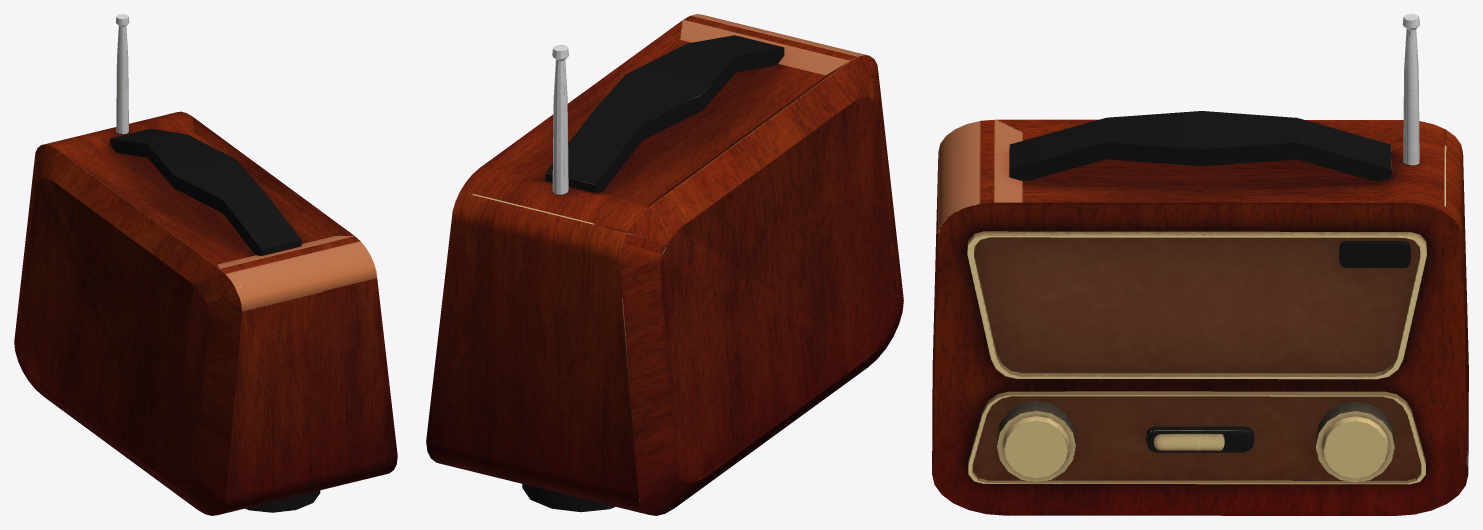
The model's file is radio.fbx.
3 renders of one model, left to right at view 1: azimuth 30°, elevation 25°; view 2: azimuth 150°, elevation 25°; view 3: azimuth 270°, elevation 25°, orthographic. The views are drawn at different scales.
Visible parts, largest first — view 1: radio; view 2: radio; view 3: radio.
Boxes of the visible parts, x1=… form: radio: x1=14, y1=14, x2=397, y2=515; radio: x1=426, y1=14, x2=903, y2=515; radio: x1=932, y1=14, x2=1468, y2=515.
Size of the model in its own units: 47.86 by 82.68 by 87.45.
